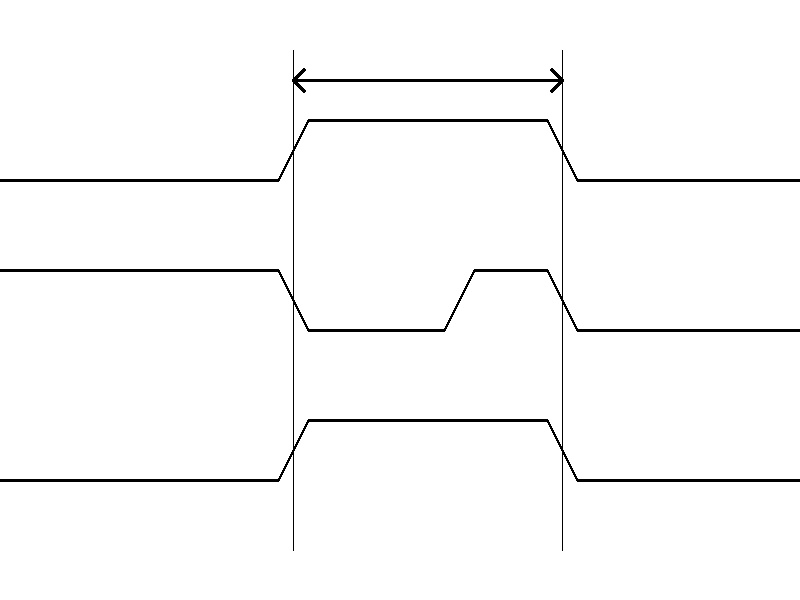double_arrow: (293, 65, 562, 95)
